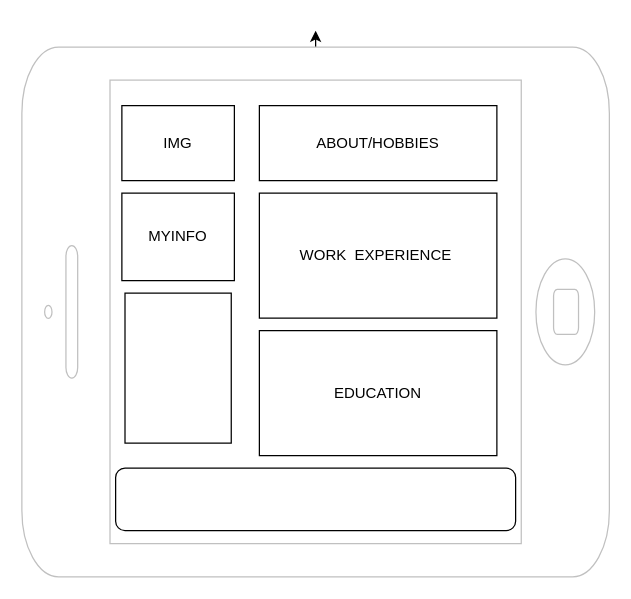
Image size: 631x599. Some labels were removed from this diagram. Each missing label, with the centre of its shape:
FOOTER: (315,499)
SKILS: (177,367)
